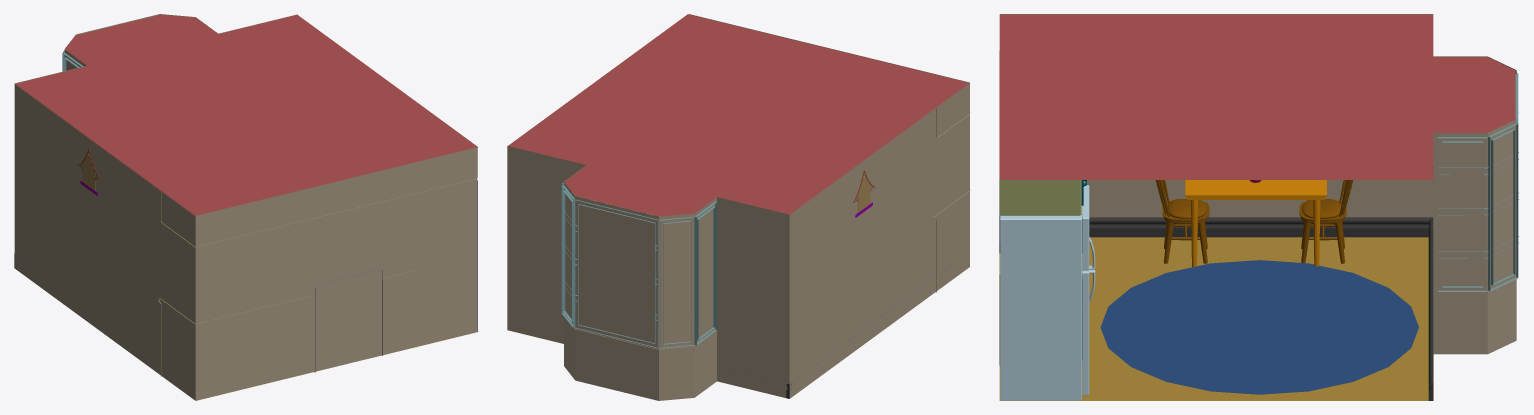
File: Cuckoo Clock Model FBX 3.fbx
The picture shows the model from 3 angles, left to right: view 1: azimuth 30°, elevation 25°; view 2: azimuth 150°, elevation 25°; view 3: azimuth 270°, elevation 25°; orthographic projection. The views are drawn at different scales.
Parts seen in each view (by area): view 1: polySurface475, pPlane31, pCube251, polySurface1255; view 2: polySurface475, pPlane31, polySurface473, polySurface1255; view 3: pPlane31, pCylinder34, polySurface475, pPlane14, polySurface375, pCube252, polySurface1407, polySurface1413, pCube251, polySurface473, pCube249.
Part boxes in pixels (x1=…): polySurface475: x1=14, y1=14, x2=477, y2=400; pPlane31: x1=14, y1=14, x2=477, y2=215; pCube251: x1=158, y1=148, x2=477, y2=376; polySurface1255: x1=78, y1=149, x2=99, y2=195; polySurface475: x1=507, y1=14, x2=969, y2=400; pPlane31: x1=508, y1=14, x2=969, y2=216; polySurface473: x1=561, y1=183, x2=717, y2=348; polySurface1255: x1=853, y1=171, x2=874, y2=217; pPlane31: x1=999, y1=14, x2=1515, y2=179; pCylinder34: x1=1100, y1=260, x2=1418, y2=394; polySurface475: x1=1000, y1=14, x2=1517, y2=354; pPlane14: x1=999, y1=237, x2=1433, y2=400; polySurface375: x1=1000, y1=185, x2=1095, y2=400; pCube252: x1=1089, y1=217, x2=1432, y2=237; polySurface1407: x1=1185, y1=180, x2=1326, y2=267; polySurface1413: x1=1155, y1=180, x2=1353, y2=263; pCube251: x1=999, y1=51, x2=1085, y2=365; polySurface473: x1=1438, y1=73, x2=1518, y2=291; pCube249: x1=1428, y1=217, x2=1433, y2=400.
Size of the model in its own units: 54.45 by 34.03 by 72.17.
